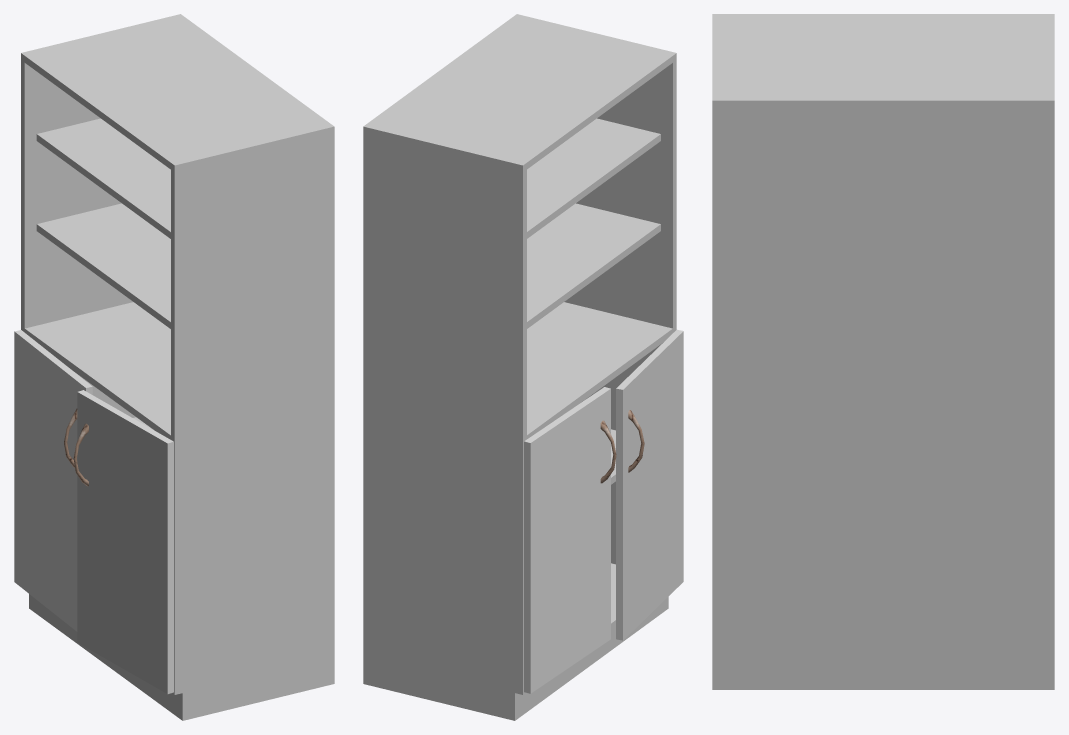
Rendered from cabinet-2.glb.
3 renders of one model, left to right at view 1: azimuth 30°, elevation 25°; view 2: azimuth 150°, elevation 25°; view 3: azimuth 270°, elevation 25°, orthographic. The views are drawn at different scales.
Visible parts, largest first — view 1: bookCaseV2_006_wood_0, Object029_wood_0, Object030_wood_0; view 2: bookCaseV2_006_wood_0, Object030_wood_0, Object029_wood_0; view 3: bookCaseV2_006_wood_0.
Part boxes in pixels (x1,y1,x2,y2): bookCaseV2_006_wood_0: (21,14,334,720); Object029_wood_0: (77,390,173,694); Object030_wood_0: (14,330,92,631); bookCaseV2_006_wood_0: (363,14,676,720); Object030_wood_0: (524,387,610,693); Object029_wood_0: (616,329,683,640); bookCaseV2_006_wood_0: (712,14,1054,689).
Bounding box in the file's own units: 0.7295 × 2 × 1.
Materials: 3 (1 with a texture image).
